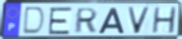A: (97, 7, 125, 35)
D: (21, 6, 47, 36)
E: (47, 6, 74, 36)
H: (150, 6, 177, 34)
R: (73, 8, 100, 35)
V: (126, 6, 153, 35)
